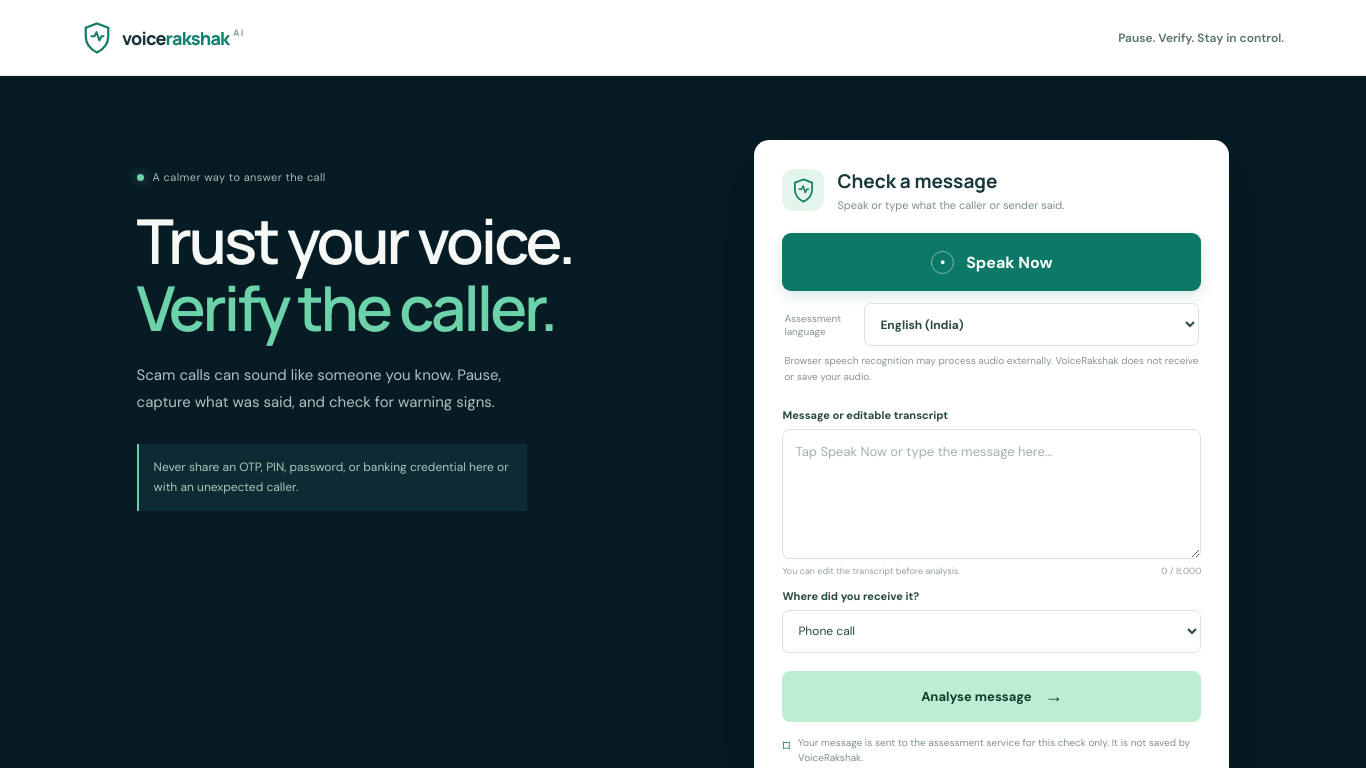
VoiceRakshak assessment interface › starts speech only after the Speak Now click and puts final transcript in the editable field
Click the button "● Speak Now" at (992, 262), box [782,233,1201,291]
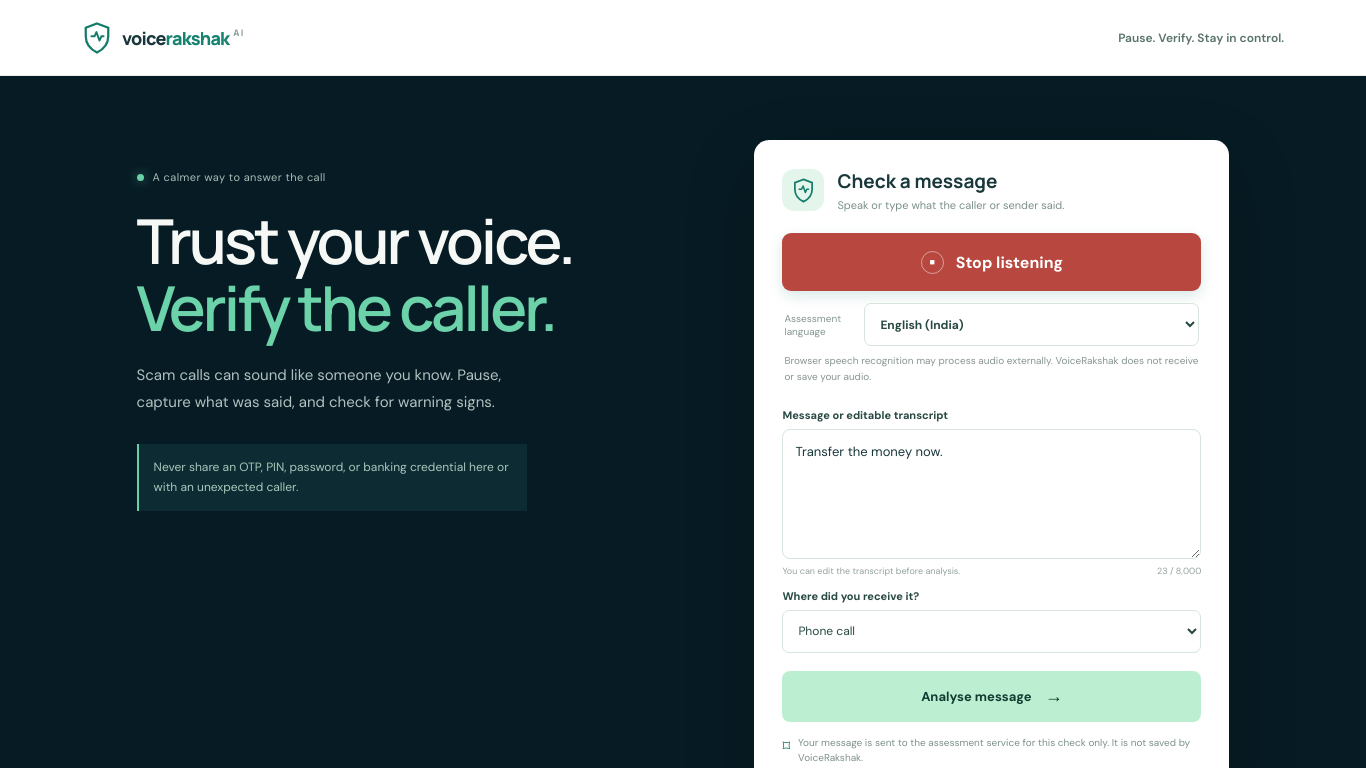
Now the text box labelled "Message or editable transcript" holds "Transfer the money now.", box [782,429,1201,559]
